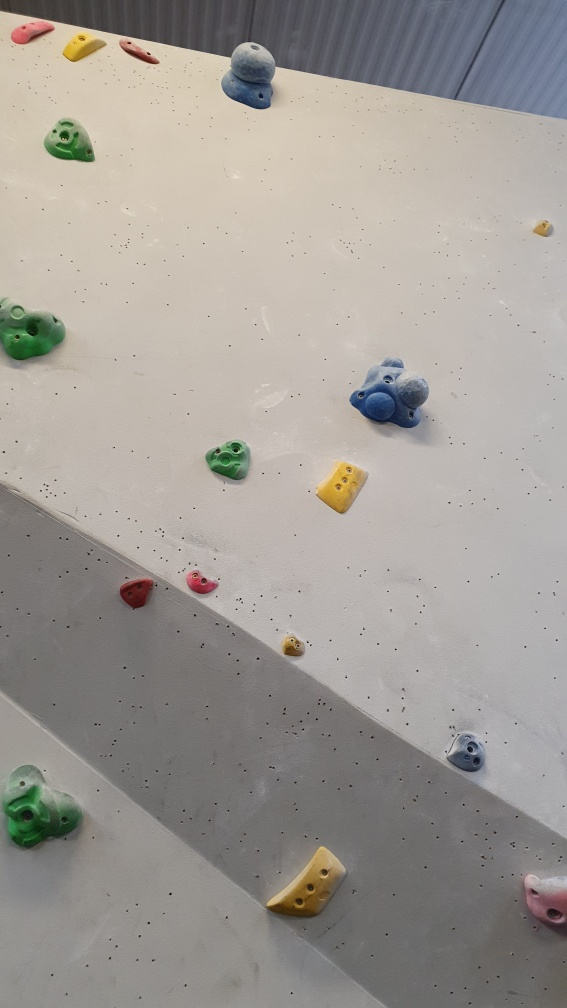Crimp: (268, 840, 351, 923), (312, 458, 372, 514), (118, 37, 161, 70)
Jug: (4, 763, 88, 854), (1, 296, 70, 362), (44, 116, 101, 167), (203, 436, 256, 482)
Pinch: (62, 30, 111, 62)
Sloper: (353, 355, 433, 435), (222, 41, 284, 114)
